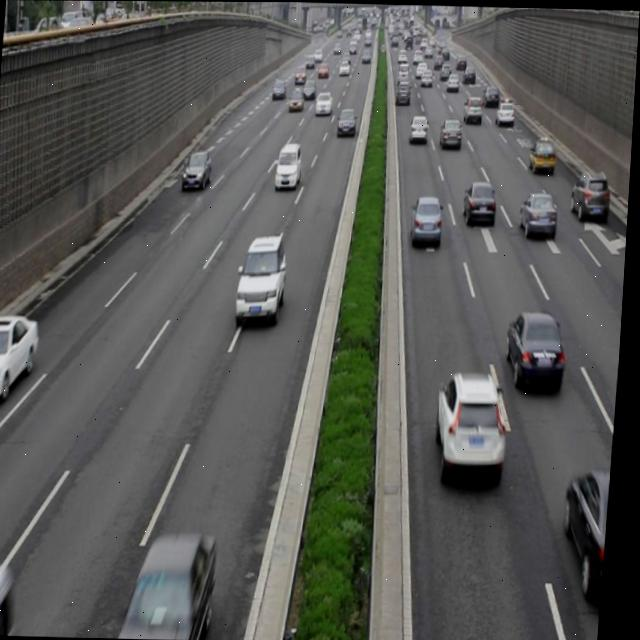car: (124, 529, 223, 640), (437, 369, 513, 471), (564, 468, 616, 593), (507, 308, 570, 389), (236, 232, 291, 324), (0, 312, 44, 404), (570, 166, 612, 222), (520, 189, 559, 240), (410, 191, 445, 245), (463, 177, 497, 228), (275, 140, 305, 189), (183, 148, 213, 189), (529, 137, 558, 176), (440, 116, 464, 150), (408, 111, 429, 145), (338, 107, 358, 135)
truck: (0, 563, 20, 635)
